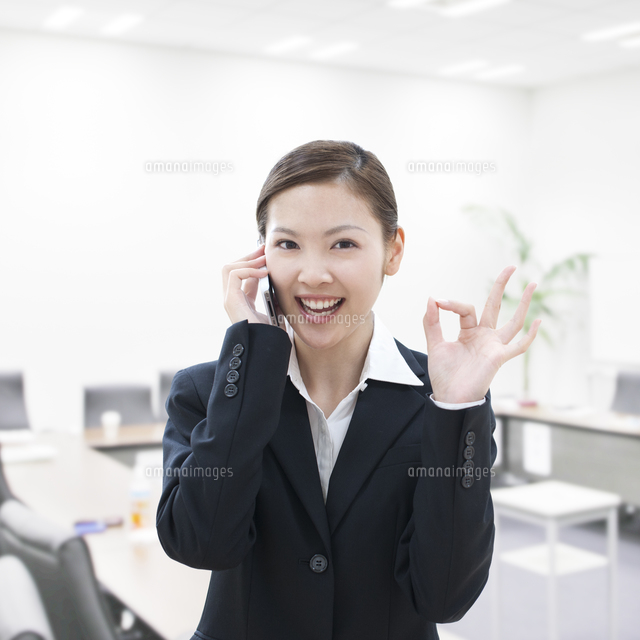phone: (223, 233, 282, 332)
talk: (210, 217, 380, 345)
